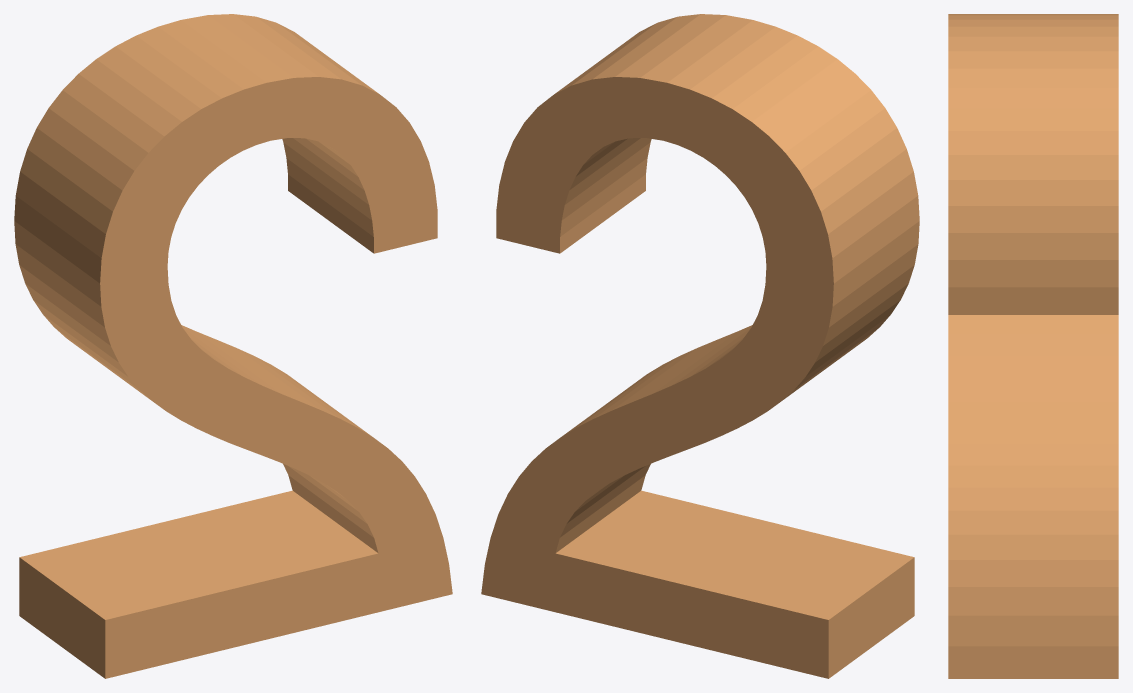
3 renders of one model, left to right at view 1: azimuth 30°, elevation 25°; view 2: azimuth 150°, elevation 25°; view 3: azimuth 270°, elevation 25°, orthographic.
Parts seen in each view (by area): view 1: 1.010; view 2: 1.010; view 3: 1.010.
Part boxes in pixels (bbox=[...]): 1.010: bbox=[14, 14, 452, 678]; 1.010: bbox=[481, 14, 919, 678]; 1.010: bbox=[948, 14, 1118, 678].
Size of the model in its own units: 40.31 by 60.81 by 17.
